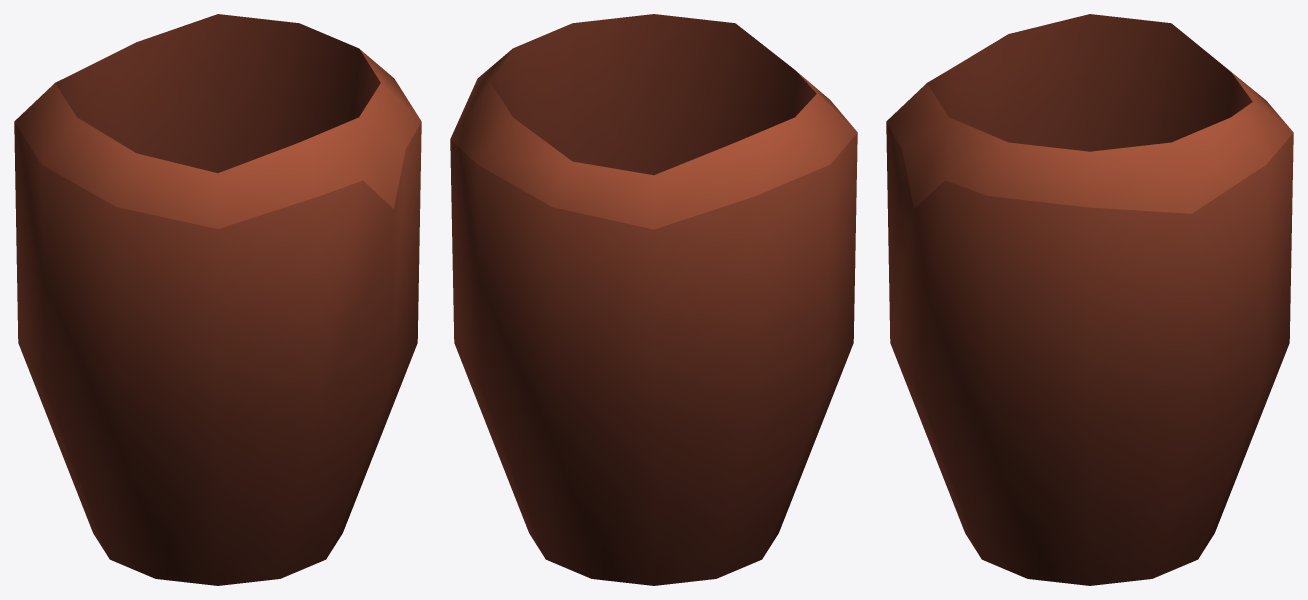
The model's file is Clay_Cup_1A.fbx.
3 renders of one model, left to right at view 1: azimuth 30°, elevation 25°; view 2: azimuth 150°, elevation 25°; view 3: azimuth 270°, elevation 25°, orthographic.
Visible parts, largest first — view 1: Clay_Cup_1A; view 2: Clay_Cup_1A; view 3: Clay_Cup_1A.
Part boxes in pixels (<box>): Clay_Cup_1A: <box>14,14,421,585</box>; Clay_Cup_1A: <box>450,14,857,585</box>; Clay_Cup_1A: <box>886,14,1293,585</box>.
Bounding box in the file's own units: 16.11 × 19.65 × 16.11.
